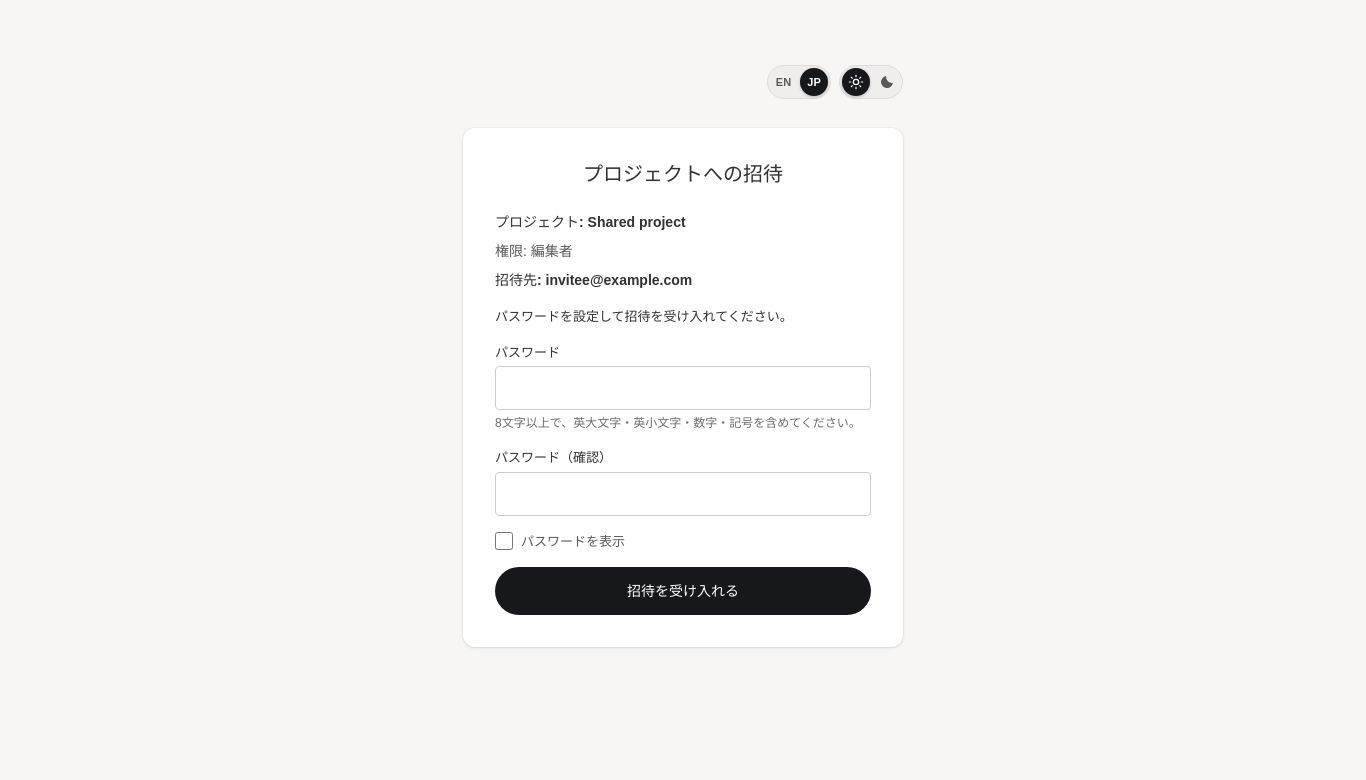
Test: registers first, preserves the invitation, and routes writer acceptance to Team billing
Step 1. Type "Password1!" into the password field labelled "パスワード" → (683,388), box [495,366,871,410]
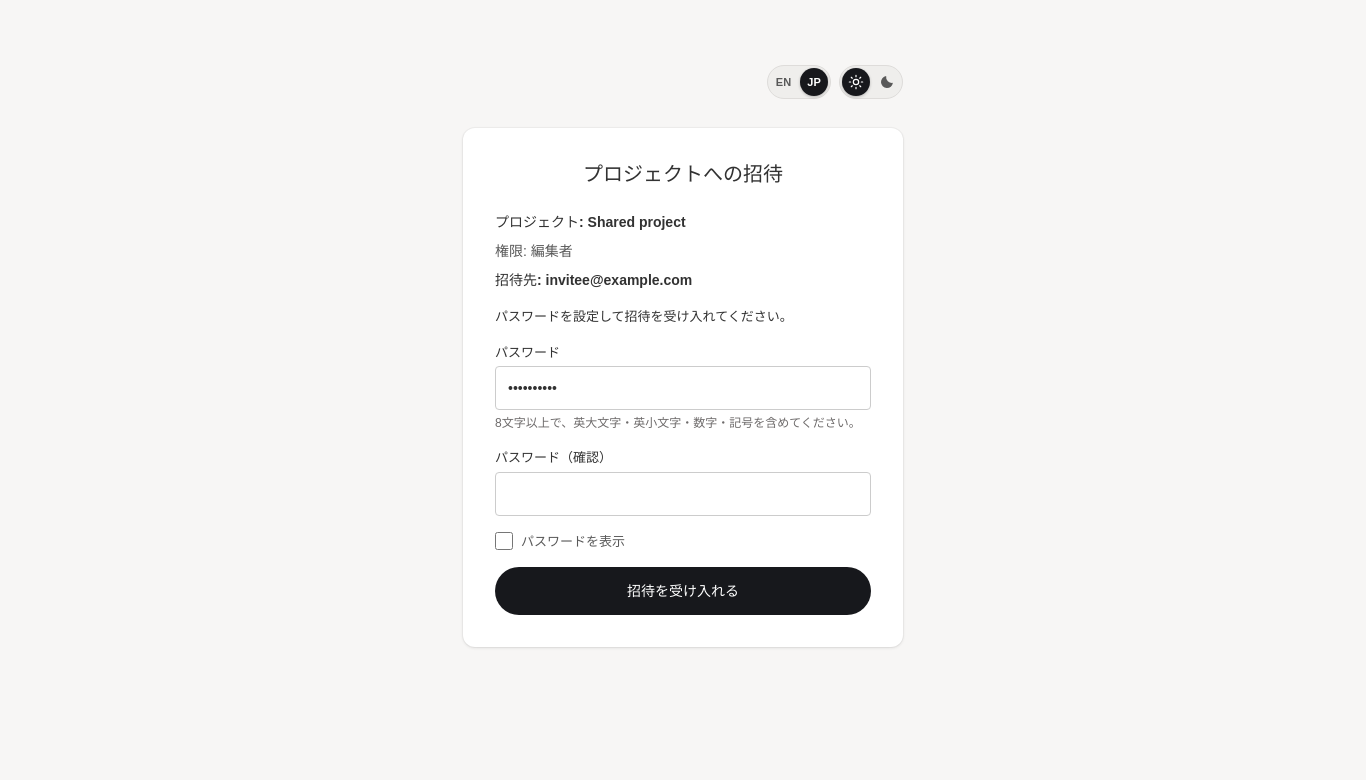
Step 2. Type "Password1!" into the password field labelled "パスワード（確認）" → (683,494), box [495,472,871,516]
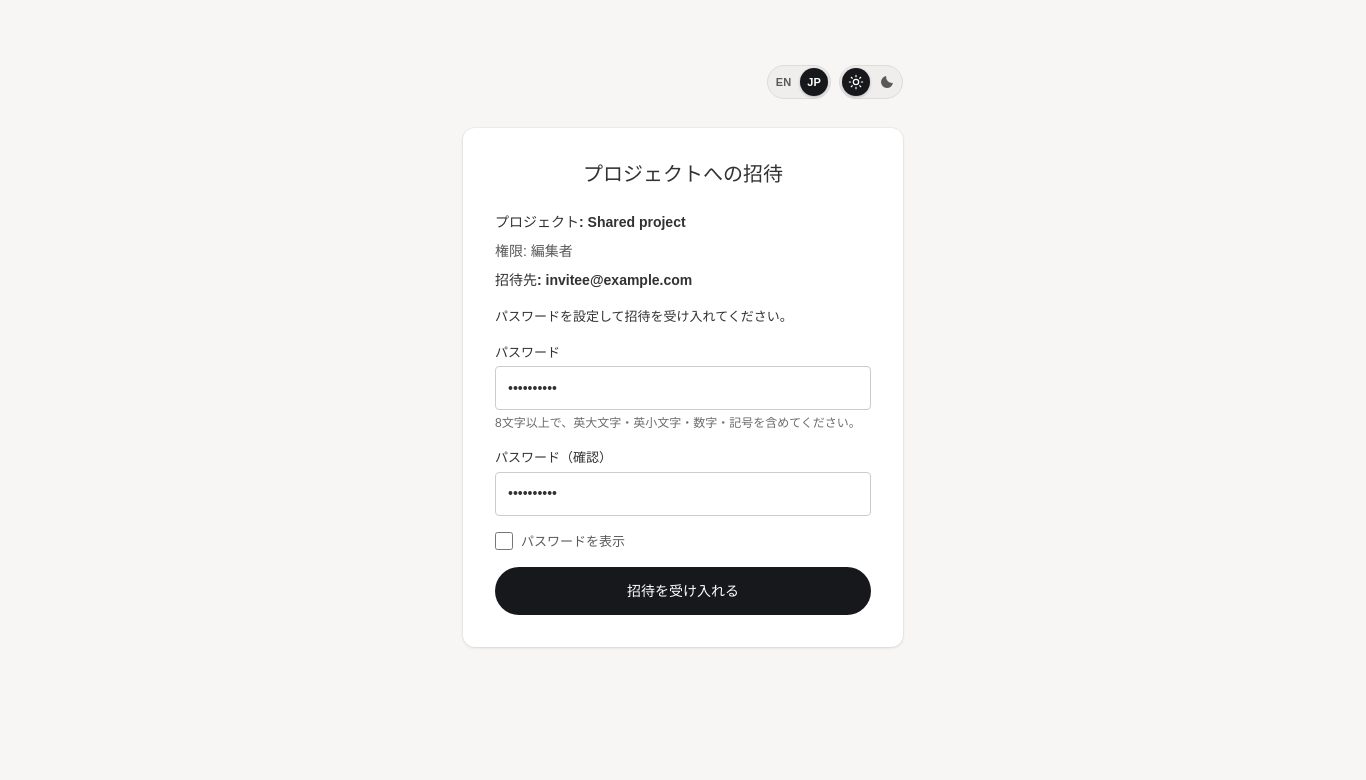
Step 3. Click the button "招待を受け入れる" → (683,591), box [495,567,871,615]
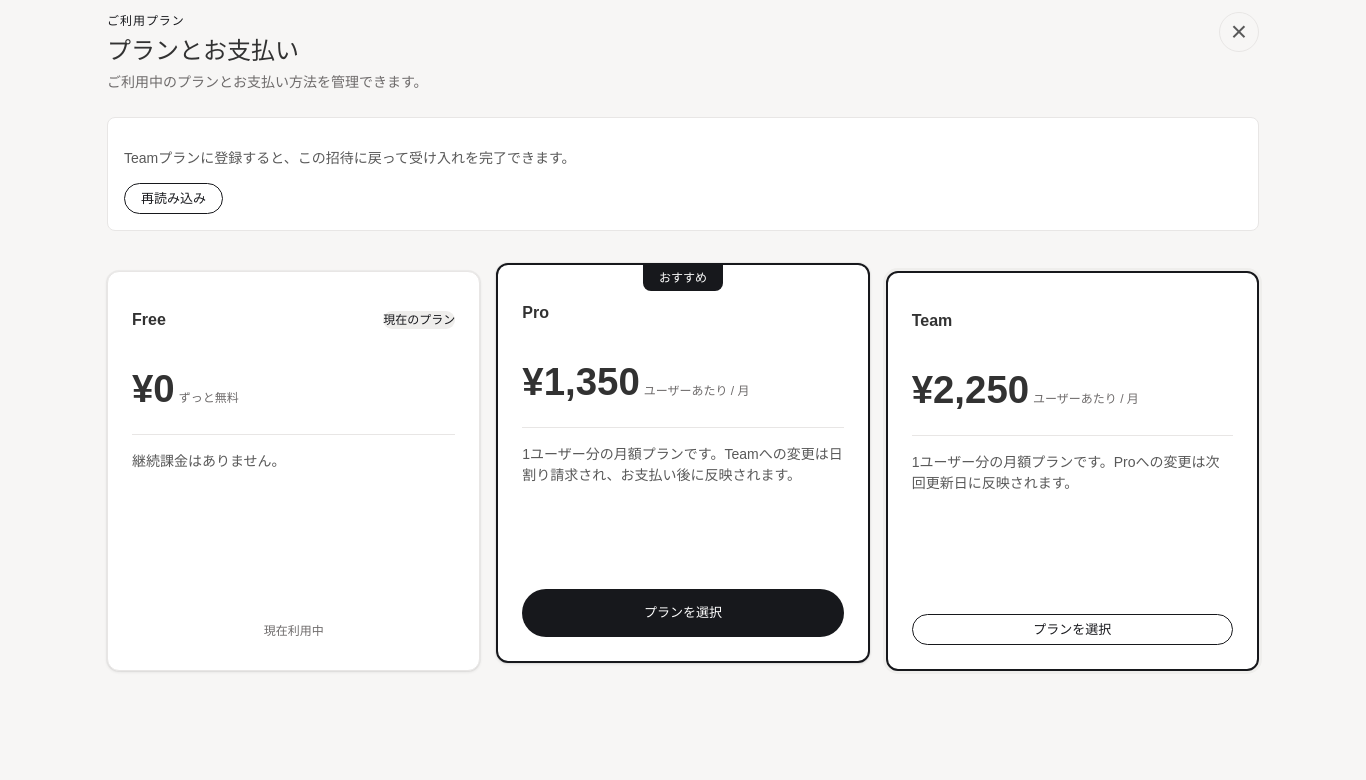
Expected: the text "Teamプランに登録すると、この招待に戻って受け入れを完了できます。" is shown, [124,150,576,166]
